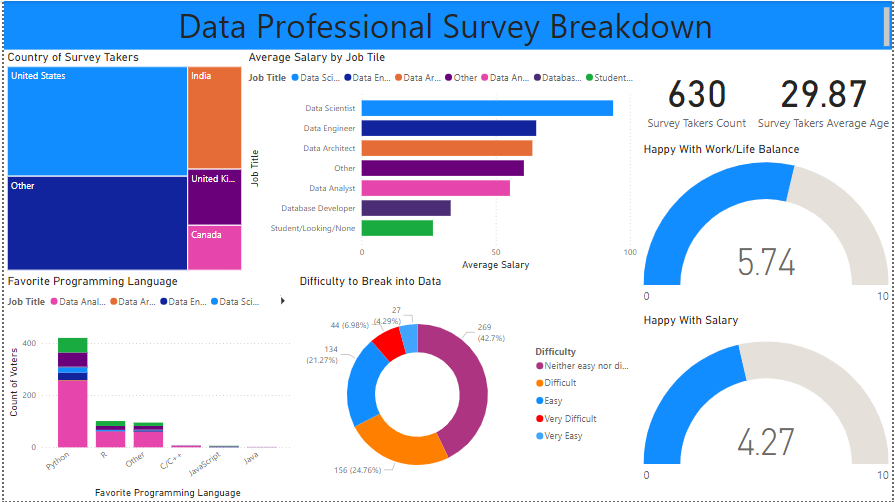

This screenshot's page, from the dashboard's own definition file:
{"tool":"powerbi","page":{"name":"Page 1","canvas":[1280,720],"ordinal":0},"visuals":[{"type":"textbox","box":[0,0,1280,70],"z":0},{"type":"card","fields":{"Values":["CountNonNull(Data Professional Survey.Unique ID)"]},"box":[916.2,70.6,163.2,132.4],"z":1000},{"type":"card","fields":{"Values":["Avg(Data Professional Survey.Q10 - Current Age)"]},"box":[1079.4,70.6,200,132.4],"z":2000},{"type":"barChart","title":"Average Salary by Job Tile","fields":{"Category":["Data Professional Survey.Q1 - Which Title Best Fits your Current Role?.1"],"Y":["Avg(Data Professional Survey.Average Salary)"],"Series":["Data Professional Survey.Q1 - Which Title Best Fits your Current Role?.1"]},"box":[347.1,70.6,569.1,322.1],"z":3000},{"type":"columnChart","title":"Favorite Programming Language","fields":{"Category":["Data Professional Survey.Q5 - Favorite Programming Language.1"],"Y":["CountNonNull(Data Professional Survey.Unique ID)"],"Series":["Data Professional Survey.Q1 - Which Title Best Fits your Current Role?.1"]},"box":[0,392.6,420.6,327.9],"z":4000},{"type":"treemap","title":"Country of Survey Takers","fields":{"Values":["CountNonNull(Data Professional Survey.Q11 - Which Country do you live in?.1)"],"Group":["Data Professional Survey.Q11 - Which Country do you live in?.1"]},"box":[0,70.6,347.1,322.1],"z":5000},{"type":"gauge","title":"Happy With Work/Life Balance","fields":{"Y":["Avg(Data Professional Survey.Q6 - How Happy are you in your Current Position with the following? (Work/Life Balance))"],"MinValue":["Min(Data Professional Survey.Q6 - How Happy are you in your Current Position with the following? (Work/Life Balance))1"],"MaxValue":["Max(Data Professional Survey.Q6 - How Happy are you in your Current Position with the following? (Work/Life Balance))2"]},"box":[916.2,202.9,363.2,247.1],"z":5001},{"type":"gauge","title":"Happy With Salary","fields":{"Y":["Avg(Data Professional Survey.Q6 - How Happy are you in your Current Position with the following? (Salary))"],"MinValue":["Min(Data Professional Survey.Q6 - How Happy are you in your Current Position with the following? (Salary))"],"MaxValue":["Max(Data Professional Survey.Q6 - How Happy are you in your Current Position with the following? (Salary))"]},"box":[916.2,450,363.2,270.6],"z":5002},{"type":"donutChart","title":"Difficulty to Break into Data","fields":{"Category":["Data Professional Survey.Q7 - How difficult was it for you to break into Data?"],"Y":["CountNonNull(Data Professional Survey.Q7 - How difficult was it for you to break into Data?)"]},"box":[420.6,392.6,495.6,327.9],"z":5003}]}

Visuals, with their boxes in screenshot pixels (x1, y1, x2, y2), scaled from the page's 1280x720 canvas onto the 895x502 screenshot:
textbox: box(0, 0, 894, 49)
card - CountNonNull(Data Professional Survey.Unique ID): box(641, 49, 755, 142)
card - Avg(Data Professional Survey.Q10 - Current Age): box(755, 49, 894, 142)
"Average Salary by Job Tile" barChart: box(243, 49, 641, 274)
"Favorite Programming Language" columnChart: box(0, 274, 294, 501)
"Country of Survey Takers" treemap: box(0, 49, 243, 274)
"Happy With Work/Life Balance" gauge: box(641, 141, 894, 314)
"Happy With Salary" gauge: box(641, 314, 894, 501)
"Difficulty to Break into Data" donutChart: box(294, 274, 641, 501)
